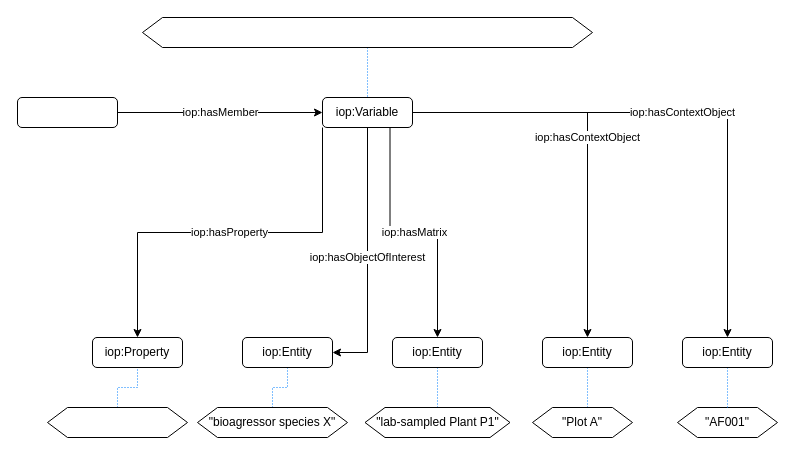
Some shapes in this 795 by 455 pixel diagram are drawn without their labels. Each missing label, with the box of its shape:
"Presence of bioagressor species X on lab-sampled plant P1 in AFF001-plotA: (142, 16, 592, 48)
"Presence": (46, 406, 188, 438)
iop:VariableSet: (16, 96, 118, 128)
